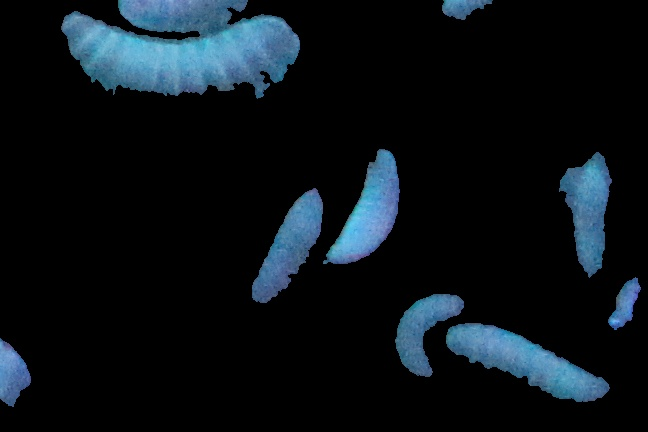larvae: (59, 12, 296, 125), (439, 318, 608, 401), (252, 185, 320, 313), (330, 153, 410, 257), (386, 292, 465, 380), (562, 153, 615, 275), (118, 1, 282, 32)
